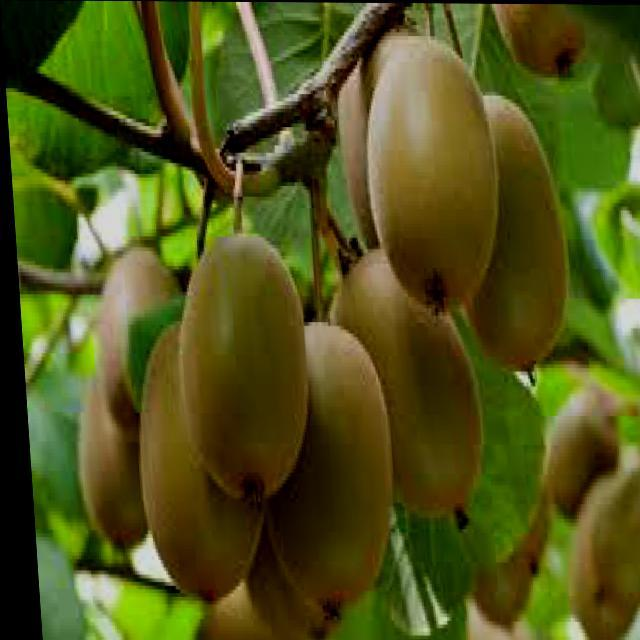kiwi: (248, 319, 393, 614), (318, 245, 478, 511), (360, 29, 497, 313), (169, 223, 307, 492), (436, 88, 568, 369), (128, 318, 257, 591), (331, 21, 449, 258), (89, 244, 187, 437), (70, 370, 149, 543), (555, 472, 637, 638), (535, 379, 618, 523), (587, 460, 640, 597)
